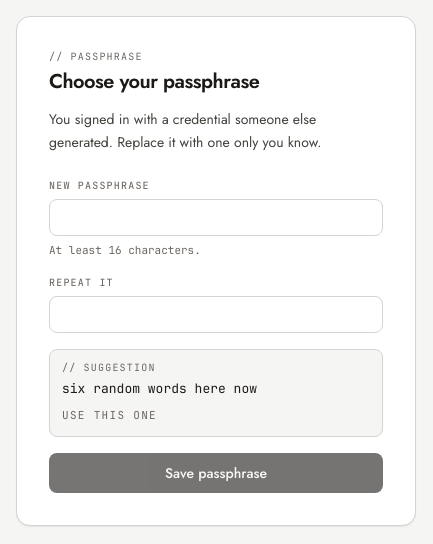
PassphraseRoute — forced setup › offers the generated suggestion and fills both fields with it
Expected: the text with test id "passphrase-suggestion" reads "six random words here now", [62, 380, 257, 397]
Click the button with test id "passphrase-use-suggestion" at [110, 415], box [62, 406, 157, 423]
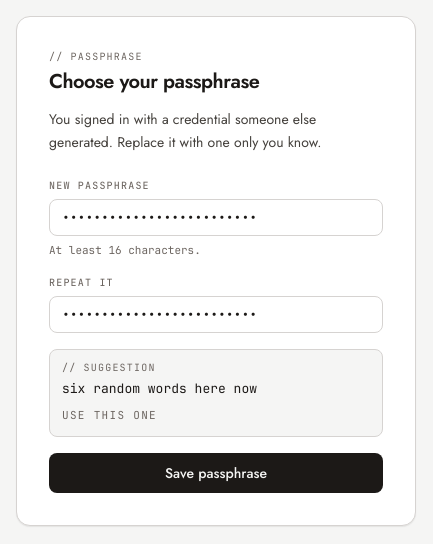
Now the password field with test id "passphrase-next" holds "six random words here now", box [49, 198, 383, 236]
Now the password field with test id "passphrase-confirm" holds "six random words here now", box [49, 296, 383, 333]
